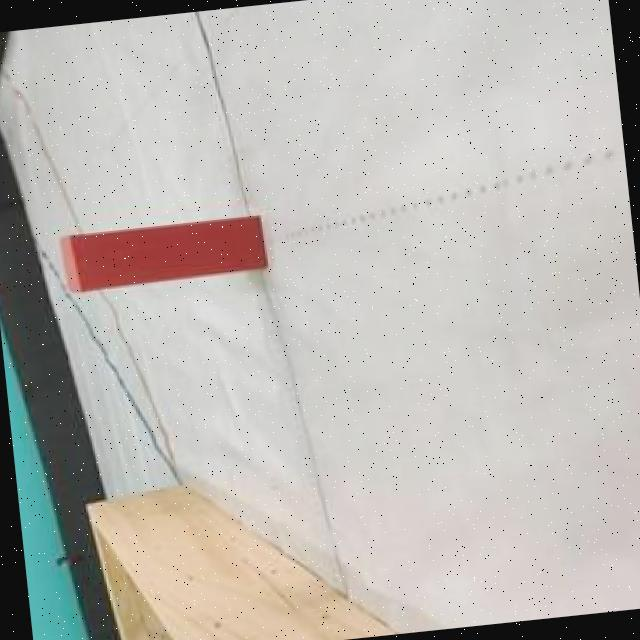redbox: (56, 212, 270, 292)
